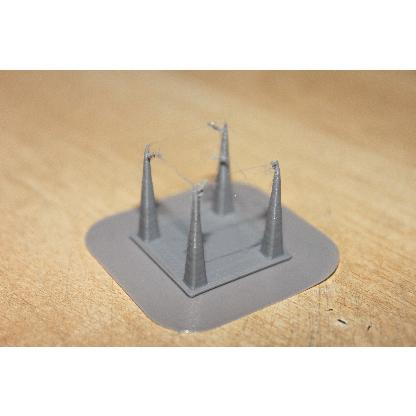fail: (149, 140, 195, 186), (244, 156, 276, 182)
